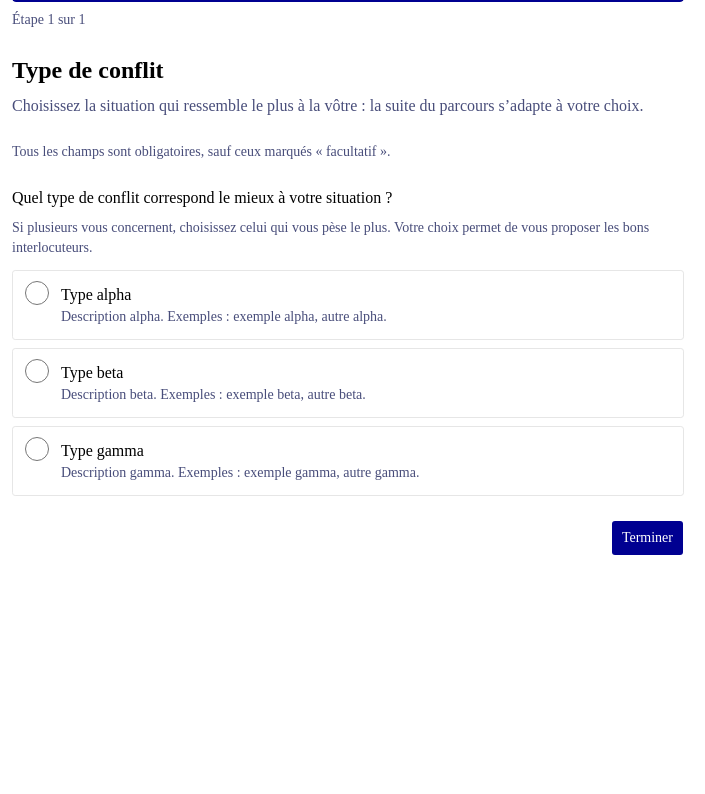
Test: follow-up questions step › validation through followUpAnswersSchema › refuses the number "abc" with "Saisissez un nombre en chiffres (exemple : 12 ou 12,5)."
Click the radio button labelled "Type alpha" at {"x": 37, "y": 293}, box [25,281,49,305]
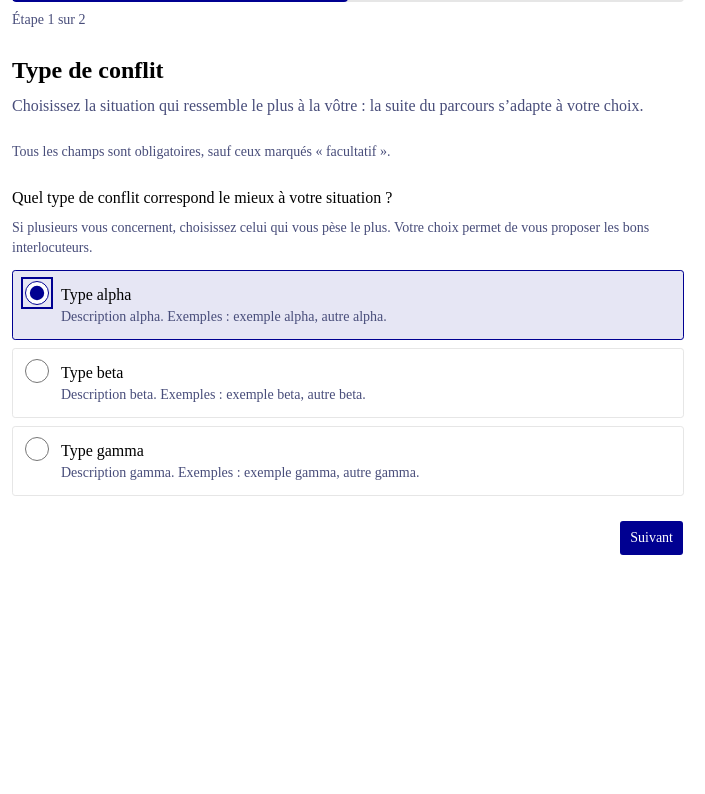
Click the button "Suivant" at {"x": 652, "y": 538}, box [619,520,684,556]
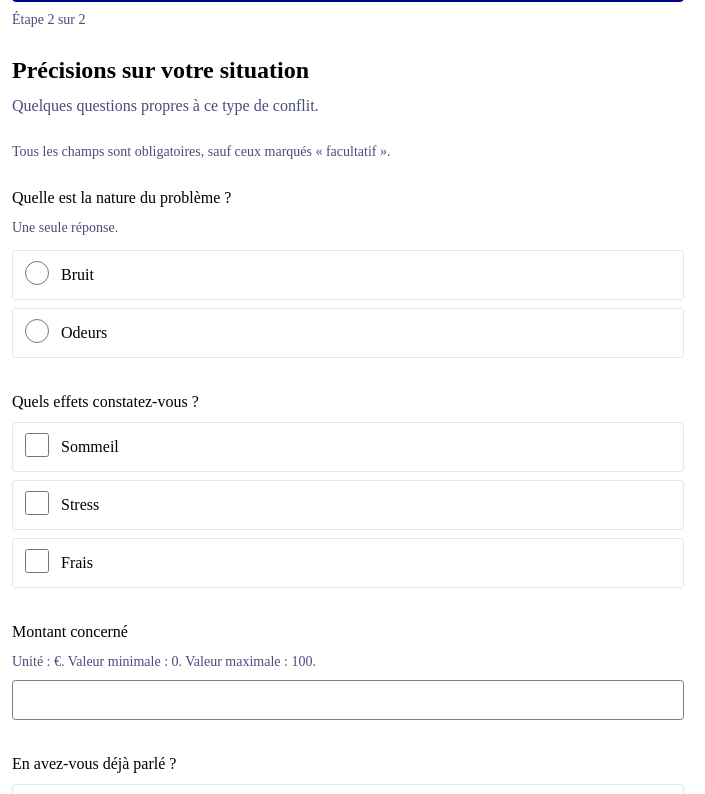
Type "abc" into the field labelled "Montant concerné" at {"x": 348, "y": 700}, box [12,680,684,720]
(page scrolled)
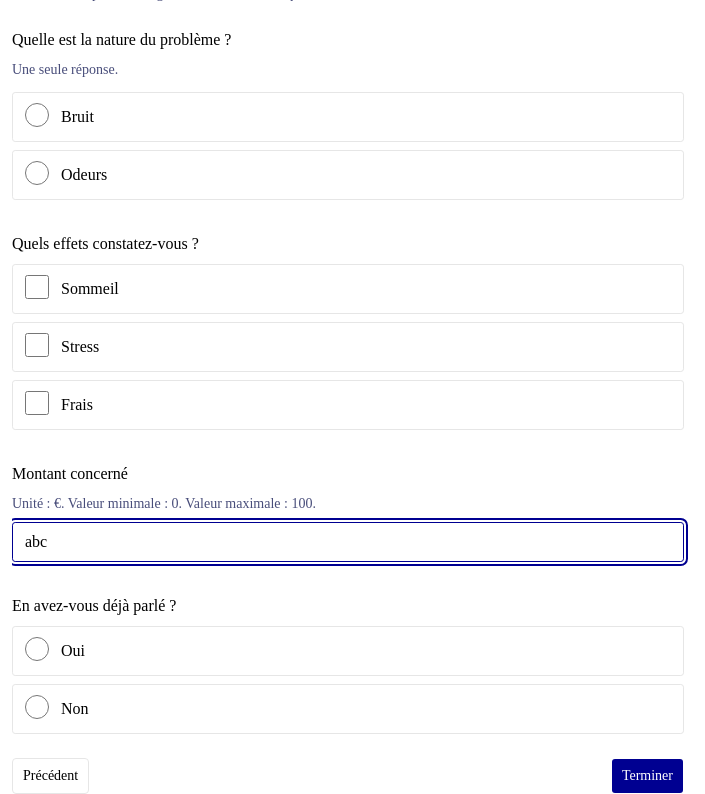
Click the button "Terminer" at {"x": 647, "y": 776}, box [611,758,684,793]
(page scrolled)
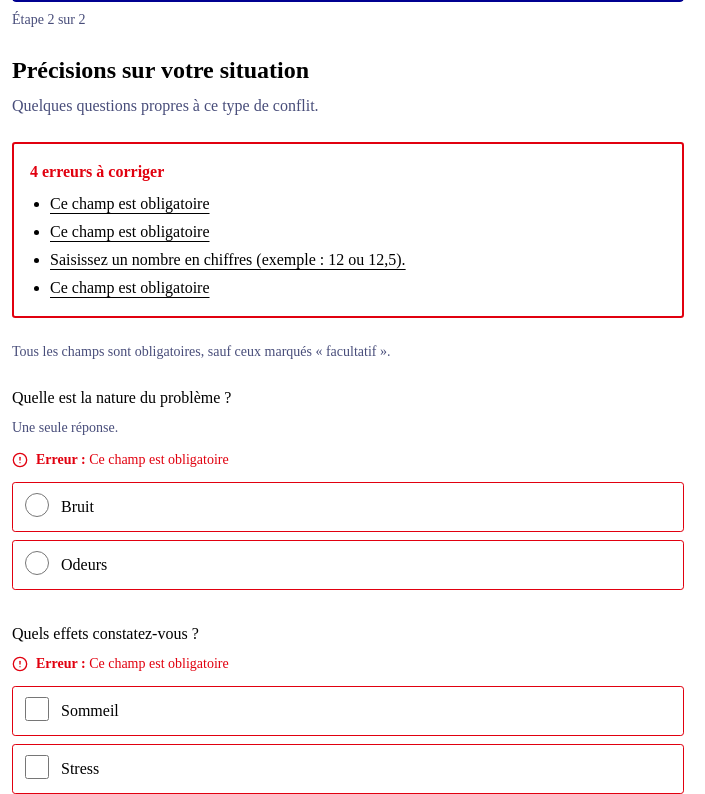
Check: the message is shown, box [12,142,684,318]
